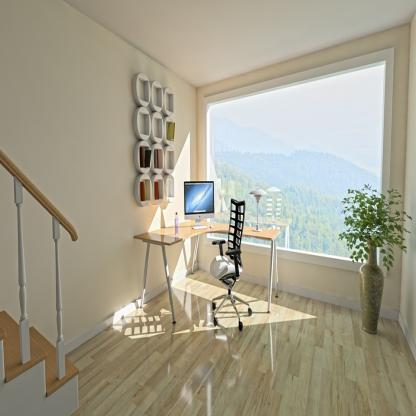Window: (202, 45, 394, 275)
Wooden floor: (67, 291, 416, 416)
